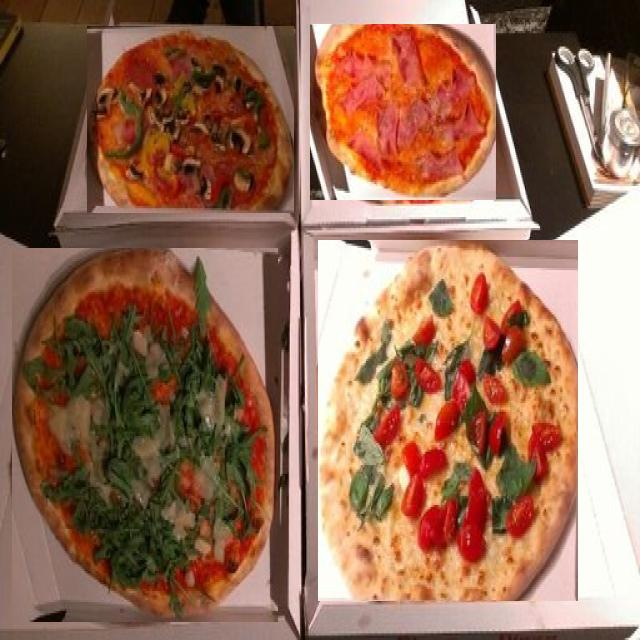basil: (500, 467, 546, 520), (506, 322, 543, 387), (360, 446, 400, 503), (473, 346, 501, 402), (512, 422, 542, 468), (424, 462, 456, 504), (346, 353, 384, 387), (442, 284, 468, 314), (388, 497, 407, 538), (504, 359, 520, 402)
pizza: (12, 248, 278, 622), (318, 240, 578, 601), (87, 26, 294, 213), (310, 24, 496, 200)
